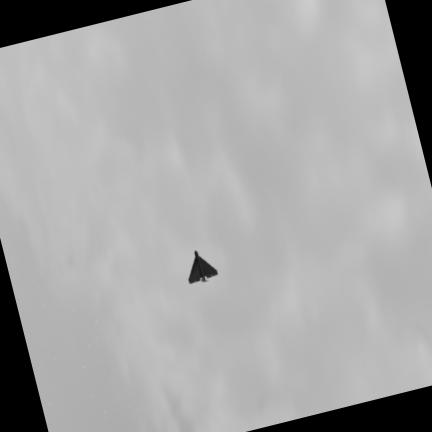Shahed: (188, 251, 216, 283)
